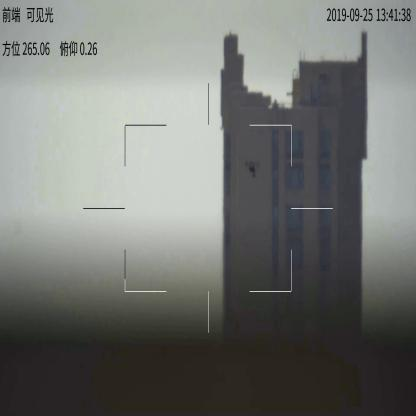uav: (244, 160, 262, 182)
